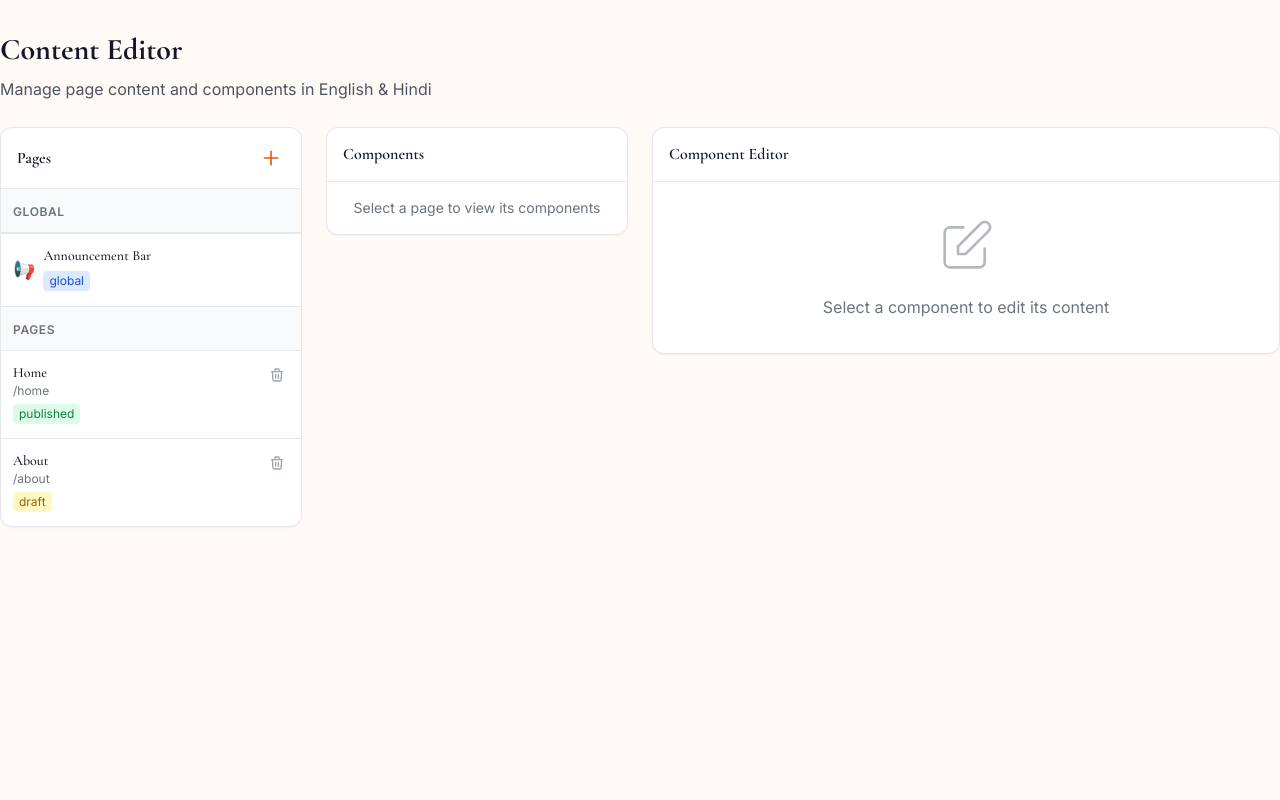
Test: CMSEditorPage - Global Components › filters global component types from the Add Component modal
Click the heading "Home". click: click(30, 372)
box: top-left (13, 364), bottom-right (47, 381)
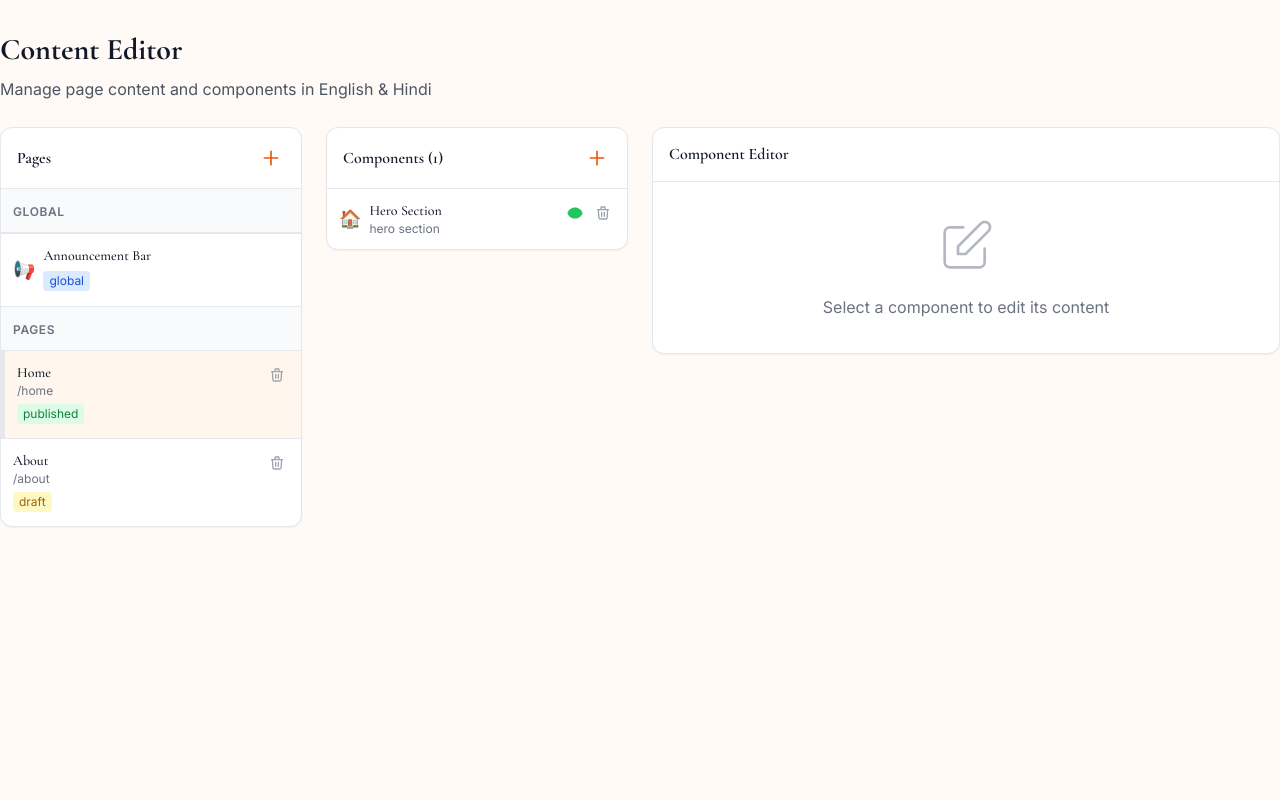
Click the "Add Component" button (the + icon in the Components panel)
Click the button titled "Add Component". click: click(597, 158)
box: top-left (583, 144), bottom-right (611, 172)
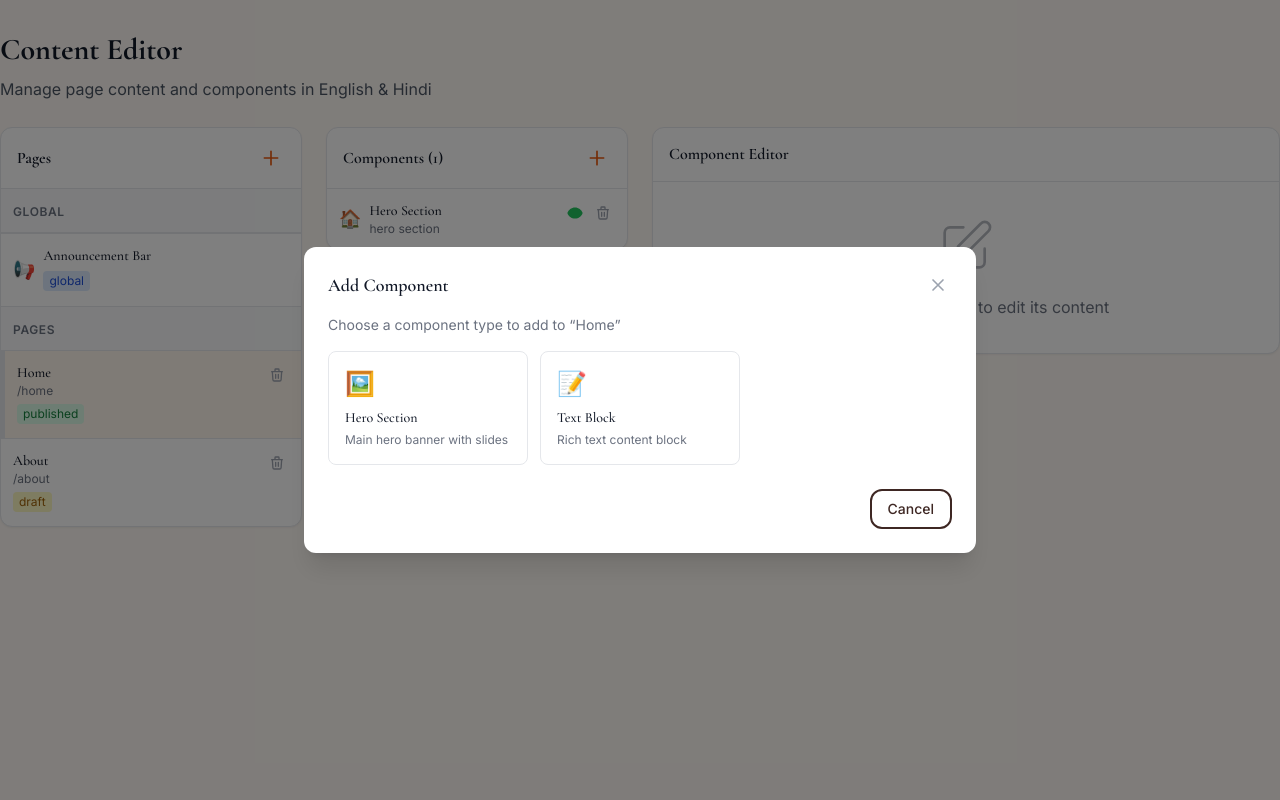
Check: the heading "Add Component" is shown, box top-left (328, 271), bottom-right (449, 299)
Check: the text "Rich text content block" is shown, box top-left (557, 432), bottom-right (687, 447)
